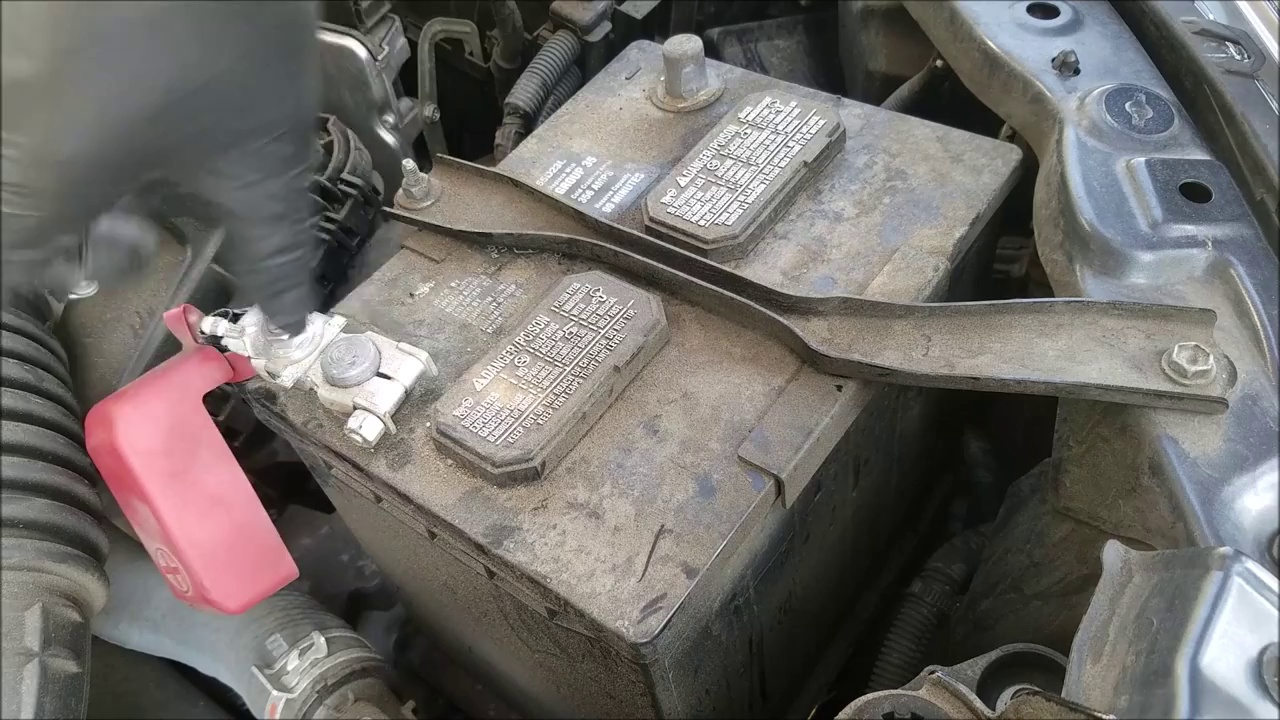battery: (269, 25, 1013, 637)
neg_disconnected: (630, 34, 761, 145)
pos_connected: (110, 307, 421, 571)
